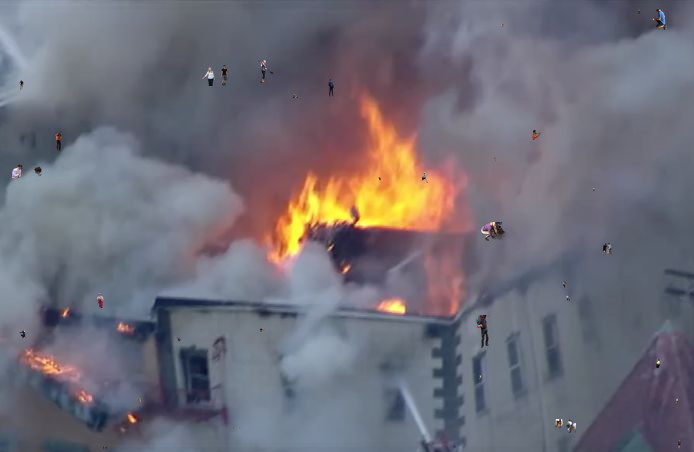Human: (202, 65, 228, 86), (481, 222, 509, 241), (12, 164, 43, 181), (475, 315, 490, 349), (55, 131, 77, 151), (258, 60, 274, 83), (652, 9, 667, 30), (555, 419, 576, 433), (220, 404, 229, 426), (328, 78, 335, 97), (96, 293, 104, 308), (602, 243, 612, 255), (532, 130, 543, 140), (420, 172, 429, 183), (19, 329, 27, 339), (19, 80, 24, 90), (21, 133, 25, 144), (562, 281, 567, 289), (656, 359, 660, 368), (678, 440, 681, 449), (566, 295, 570, 301), (177, 337, 181, 342), (293, 94, 298, 98), (136, 398, 141, 402), (638, 9, 642, 14), (260, 328, 265, 332), (233, 427, 241, 429), (378, 177, 381, 182), (479, 375, 482, 379), (103, 446, 107, 449), (676, 398, 678, 404), (494, 157, 496, 162), (593, 187, 595, 192), (501, 24, 504, 27)
